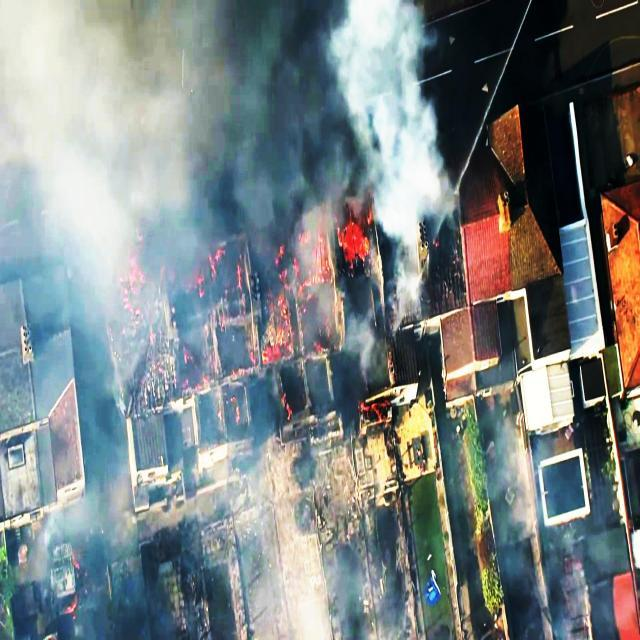Fire: (257, 302, 294, 390), (330, 208, 365, 266)
Smoke: (335, 1, 442, 192)
